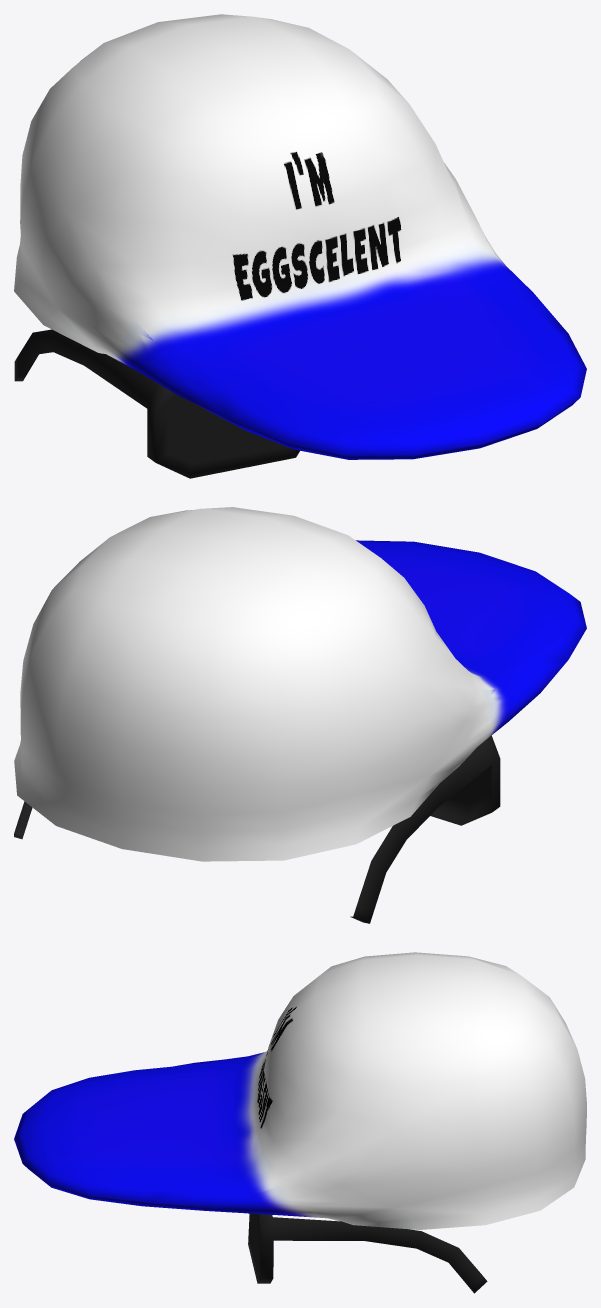
The model's file is HumanoidSkin_1_Eggscelent.fbx.
3 renders of one model, top to bottom at view 1: azimuth 30°, elevation 25°; view 2: azimuth 150°, elevation 25°; view 3: azimuth 270°, elevation 25°, orthographic. The views are drawn at different scales.
Visible parts, largest first — view 1: EggscelentHat, SunGlass.001; view 2: EggscelentHat, SunGlass.001; view 3: EggscelentHat, SunGlass.001.
Part boxes in pixels (<box>): EggscelentHat: <box>14,14,586,459</box>; SunGlass.001: <box>14,329,299,478</box>; EggscelentHat: <box>14,507,586,861</box>; SunGlass.001: <box>14,735,500,923</box>; EggscelentHat: <box>14,952,586,1229</box>; SunGlass.001: <box>248,1213,487,1293</box>.
Bounding box in the file's own units: 291 × 237 × 486.
